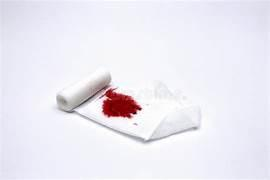cotton: (57, 69, 200, 140), (56, 68, 110, 110), (102, 88, 141, 117)
